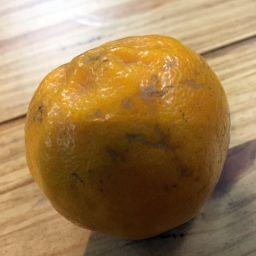Unripe: (26, 37, 231, 241)
